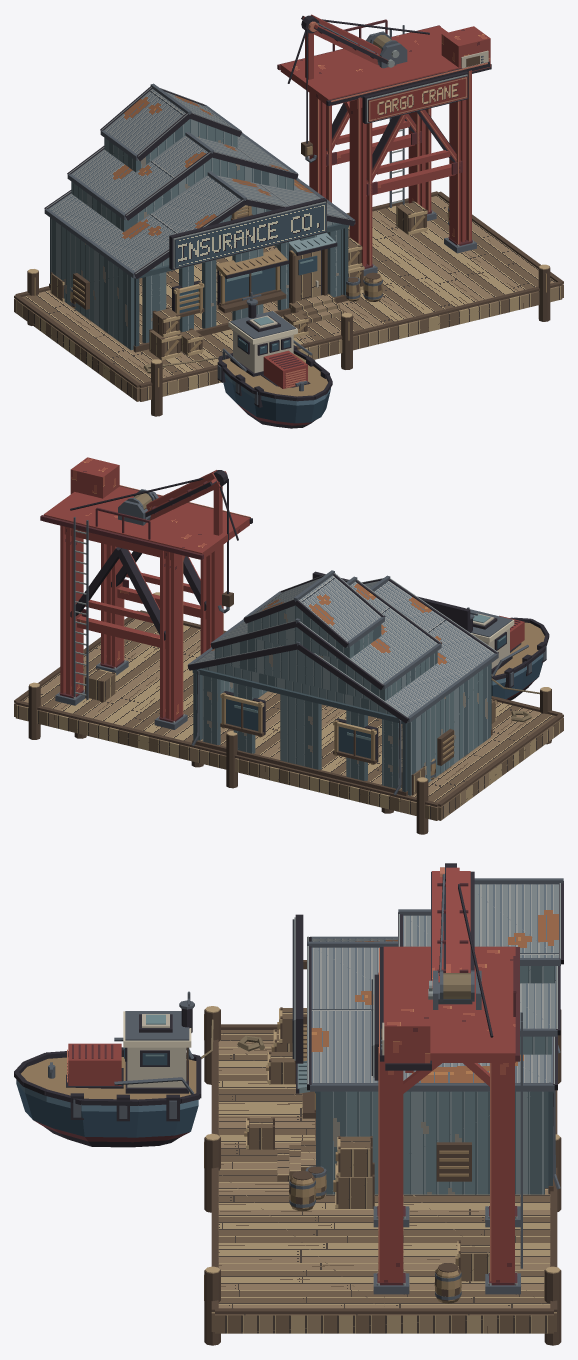
Rendered from insurance_rebuild_r2_1.glb.
3 views of the same model, one above another, from view 1: azimuth 30°, elevation 25°; view 2: azimuth 150°, elevation 25°; view 3: azimuth 270°, elevation 25° (orthographic). The views are drawn at different scales.
Parts seen in each view (by area): view 1: INS_OfficeGeometry, INS_CraneGeometry, INS_DockGeometry, INS_RoofGeometry, INS_TugGeometry, INS_PropsGeometry; view 2: INS_OfficeGeometry, INS_CraneGeometry, INS_DockGeometry, INS_RoofGeometry, INS_TugGeometry, INS_PropsGeometry; view 3: INS_DockGeometry, INS_CraneGeometry, INS_RoofGeometry, INS_OfficeGeometry, INS_TugGeometry, INS_PropsGeometry.
Part boxes in pixels (box(x1,y1,x2,y2)): INS_OfficeGeometry: box(49, 119, 348, 352); INS_CraneGeometry: box(277, 14, 491, 275); INS_DockGeometry: box(14, 191, 563, 416); INS_RoofGeometry: box(44, 83, 355, 278); INS_TugGeometry: box(162, 292, 332, 428); INS_PropsGeometry: box(50, 201, 449, 373); INS_OfficeGeometry: box(191, 571, 492, 795); INS_CraneGeometry: box(40, 457, 252, 729); INS_DockGeometry: box(14, 592, 563, 834); INS_RoofGeometry: box(187, 570, 498, 723); INS_TugGeometry: box(467, 607, 549, 700); INS_PropsGeometry: box(83, 661, 531, 795); INS_DockGeometry: box(204, 1006, 561, 1345); INS_CraneGeometry: box(371, 863, 522, 1294); INS_RoofGeometry: box(307, 878, 563, 1091); INS_OfficeGeometry: box(277, 914, 560, 1194); INS_TugGeometry: box(14, 991, 213, 1147); INS_PropsGeometry: box(237, 1007, 489, 1303).
Size of the model in its own units: 14.59 by 9.01 by 11.82.
Materials: 20 (2 with a texture image).
